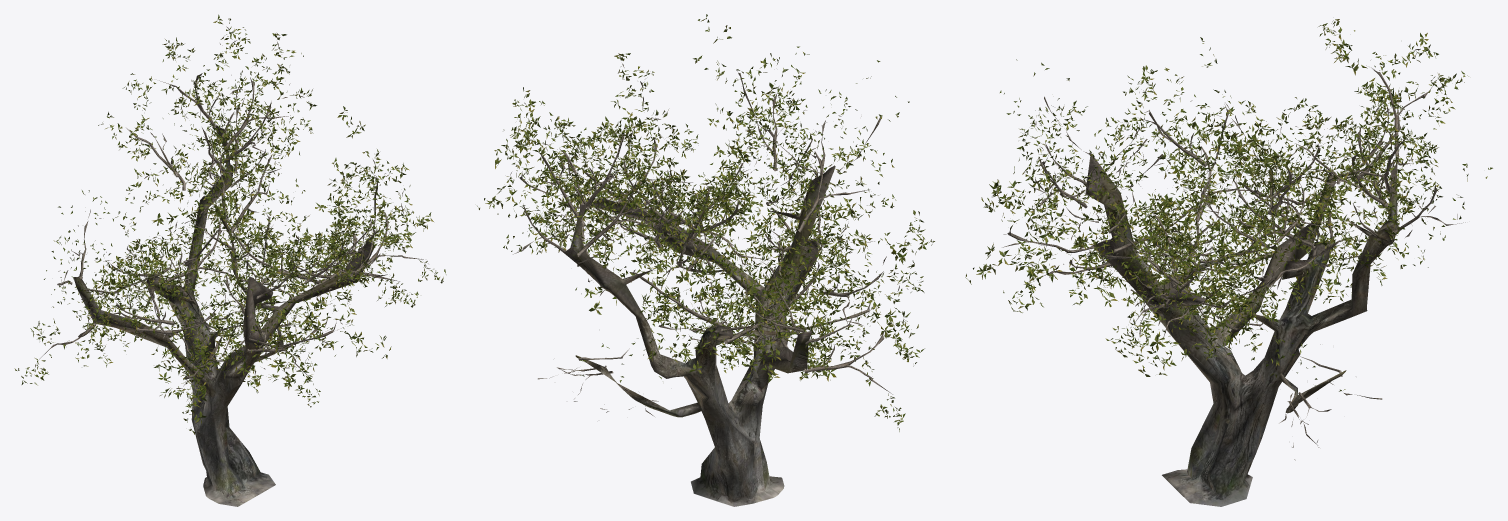
File: island_tree_01.glb
3 views of the same model, side by side, from view 1: azimuth 30°, elevation 25°; view 2: azimuth 150°, elevation 25°; view 3: azimuth 270°, elevation 25° (orthographic). The views are drawn at different scales.
Parts seen in each view (by area): view 1: island_tree_01_LOD0; view 2: island_tree_01_LOD0; view 3: island_tree_01_LOD0.
Boxes of the visible parts, box(x1,y1,x2,y2) form: island_tree_01_LOD0: box(14, 14, 446, 506); island_tree_01_LOD0: box(477, 14, 934, 506); island_tree_01_LOD0: box(965, 19, 1492, 506).
Size of the model in its own units: 4.7 by 4.98 by 4.79.
3 materials, 3 textured.
